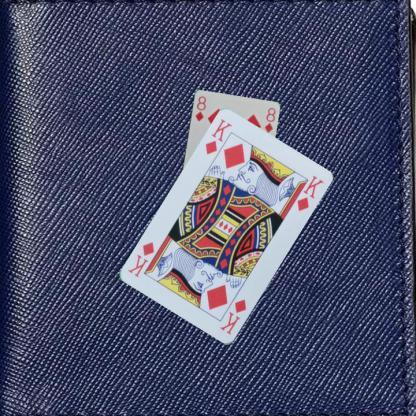8d: (192, 94, 207, 122)
Kd: (217, 296, 248, 336), (203, 116, 234, 156)
